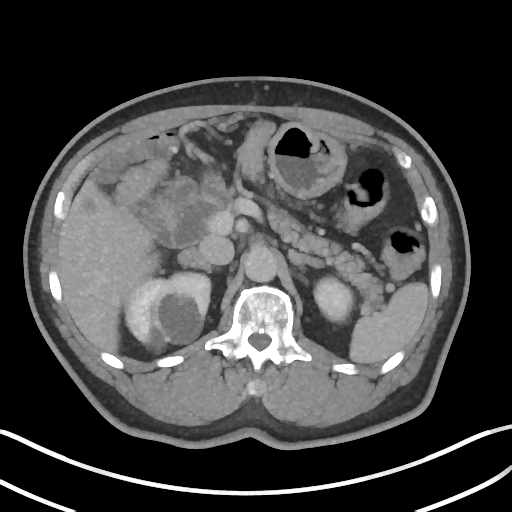Lesion: (155, 287, 205, 347)
